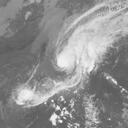cyclone: (53, 22, 114, 75)
